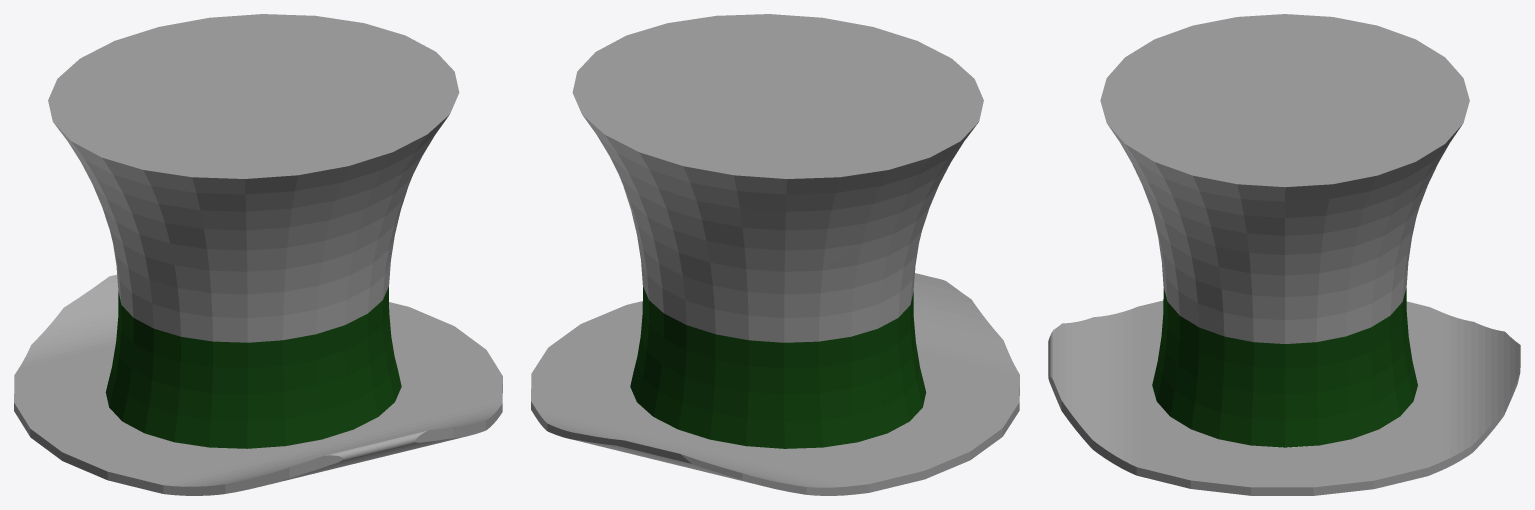
Rendered from hat_white.obj.
The picture shows the model from 3 angles, left to right: view 1: azimuth 30°, elevation 25°; view 2: azimuth 150°, elevation 25°; view 3: azimuth 270°, elevation 25°; orthographic projection. The views are drawn at different scales.
Parts seen in each view (by area): view 1: Component5.001; view 2: Component5.001; view 3: Component5.001.
Boxes of the visible parts, box(x1,y1,x2,y2) form: Component5.001: box(14, 14, 502, 495); Component5.001: box(531, 14, 1019, 495); Component5.001: box(1048, 14, 1520, 495).
Bounding box in the file's own units: 0.2502 × 0.1704 × 0.2488.
